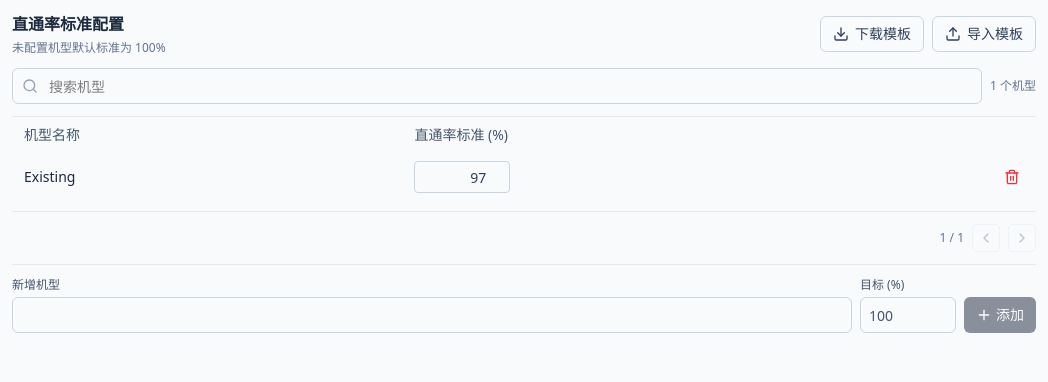
Test: model target bulk controls › reports source failures and allows retry
Click the button "下载模板".
click(872, 34)  # box [820,16,924,52]
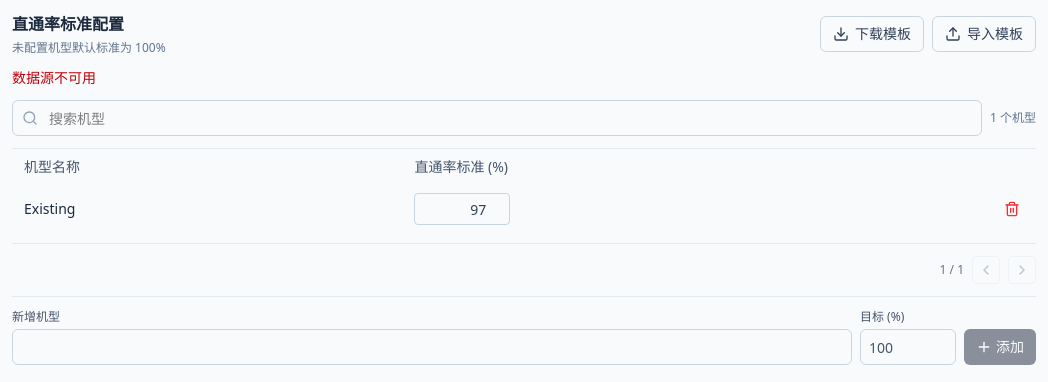
expect the message reads "数据源不可用": met, box [12,68,96,87]
